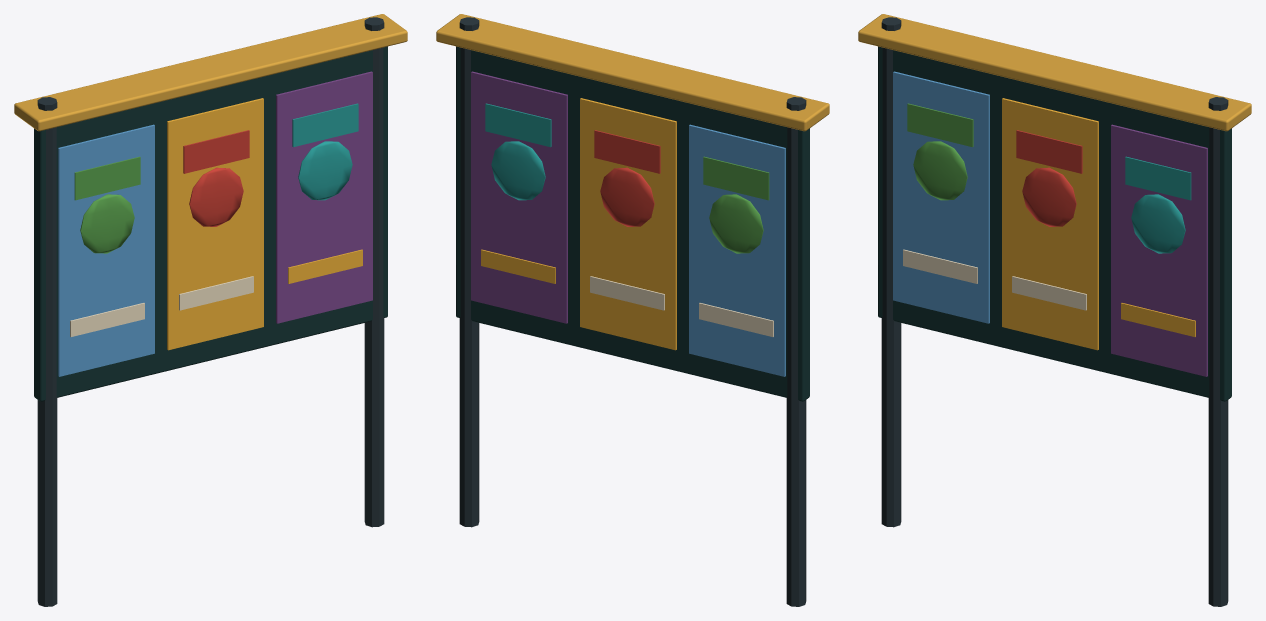
Rendered from rt_poster_board.glb.
3 renders of one model, left to right at view 1: azimuth 30°, elevation 25°; view 2: azimuth 150°, elevation 25°; view 3: azimuth 330°, elevation 25°, orthographic.
Visible parts, largest first — view 1: rt_poster_board_body; view 2: rt_poster_board_body; view 3: rt_poster_board_body.
Boxes of the visible parts, x1,y1,x2,y2 form: rt_poster_board_body: (14, 14, 407, 606); rt_poster_board_body: (436, 14, 829, 606); rt_poster_board_body: (858, 14, 1251, 606).
Size of the model in its own units: 1.7 by 2.2 by 0.2.
